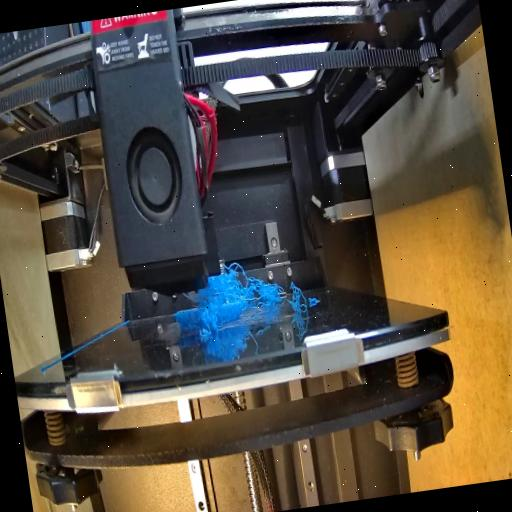spaghetti: (198, 264, 286, 308), (187, 302, 225, 344), (286, 283, 310, 314)
